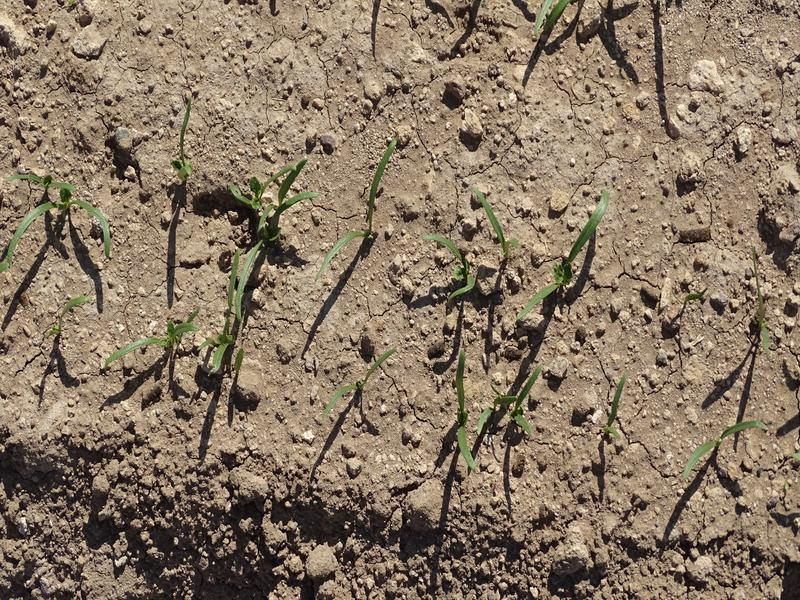Espinaca: (515, 187, 614, 318), (314, 137, 399, 275), (5, 176, 118, 254), (209, 243, 275, 366), (98, 306, 198, 377), (214, 165, 310, 232), (683, 417, 769, 472), (324, 347, 400, 409), (481, 366, 542, 431), (428, 233, 478, 297), (452, 353, 478, 468), (169, 97, 200, 174), (476, 192, 511, 253), (603, 378, 629, 444), (533, 1, 568, 32)
